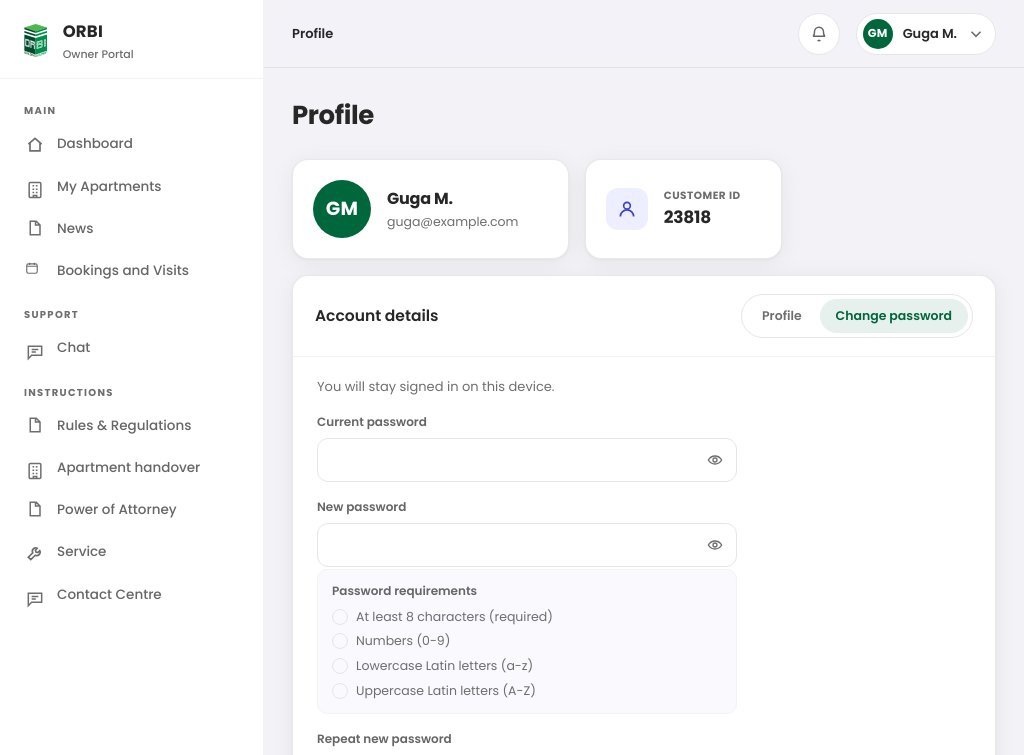
profile page › a too-short new password is rejected on submit
Type "oldpass1" into the password field labelled "Current password". click: (527, 460)
box: [317,438,737,482]
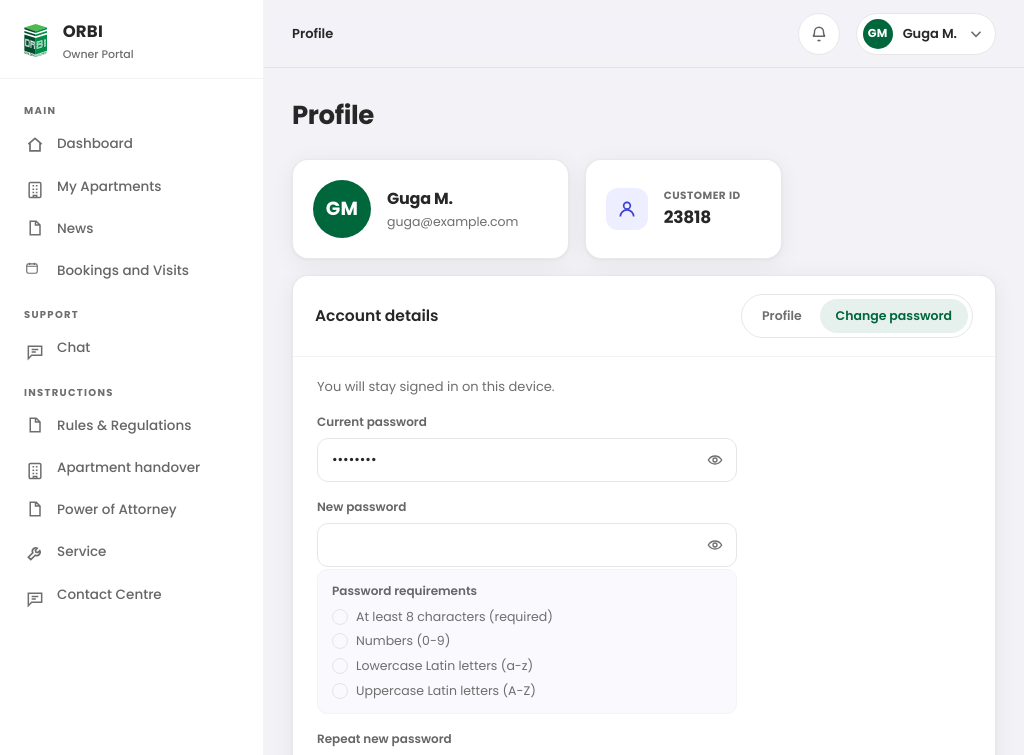
Type "abc" into the password field labelled "New password". click: (527, 544)
box: [317,522,737,566]
(page scrolled)
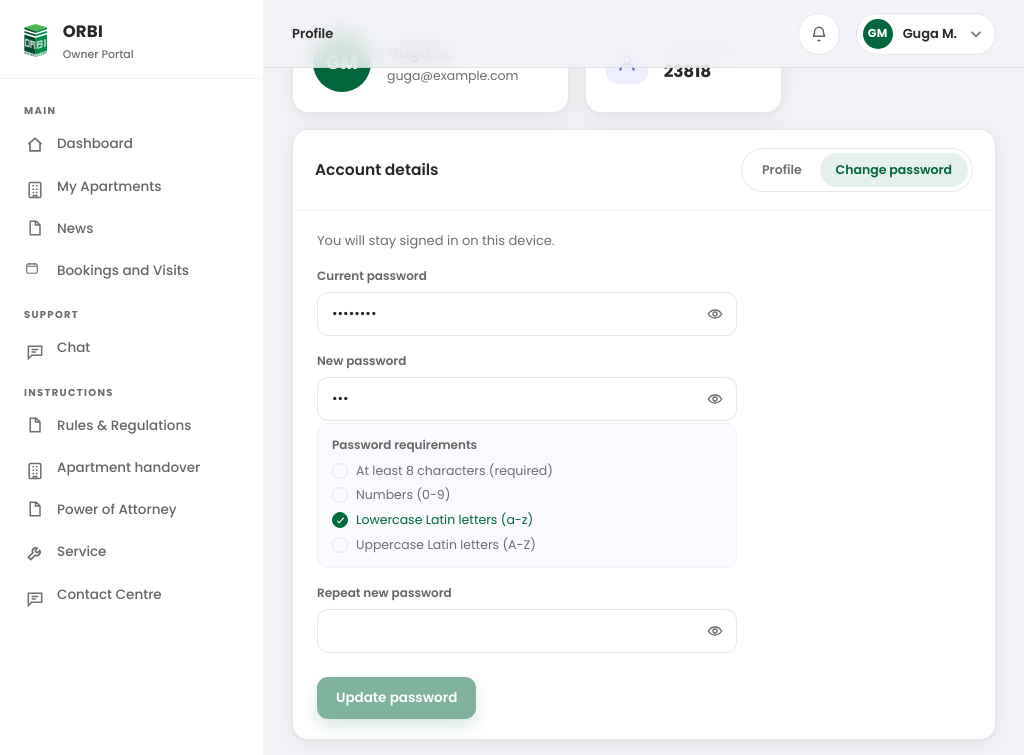
Type "abc" into the password field labelled "Repeat new password". click: (527, 630)
box: [317,608,737,652]
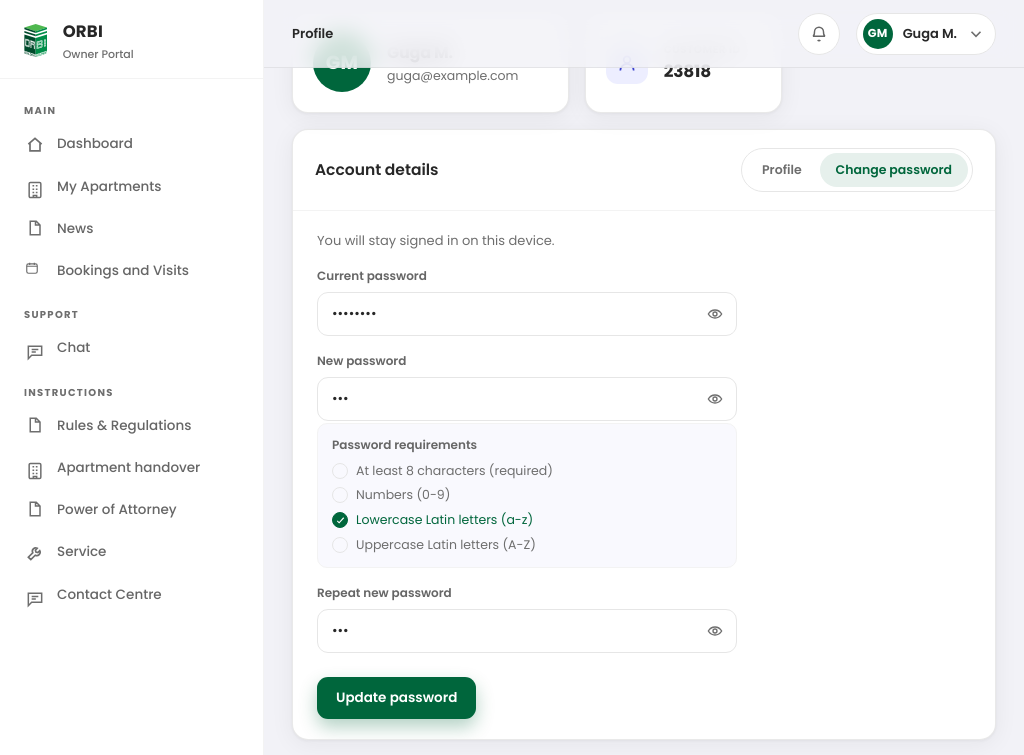
Click the button "Update password". click: (397, 698)
box: [317,676,476,718]
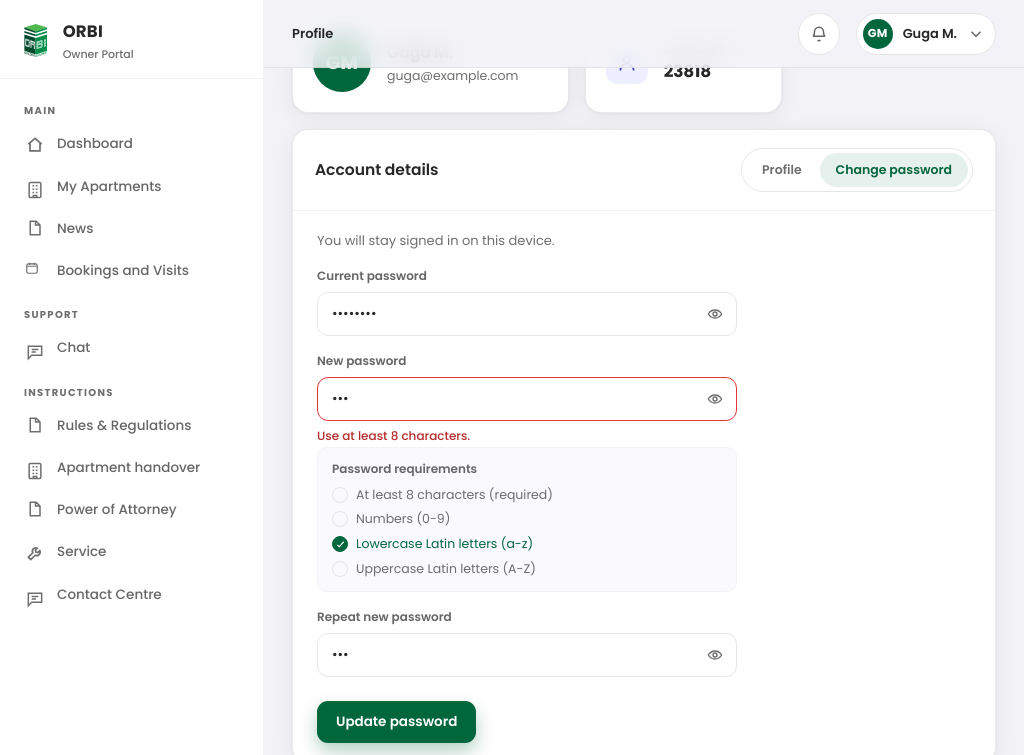
Now the text "Use at least 8 characters." is shown, box [317,426,470,444]
